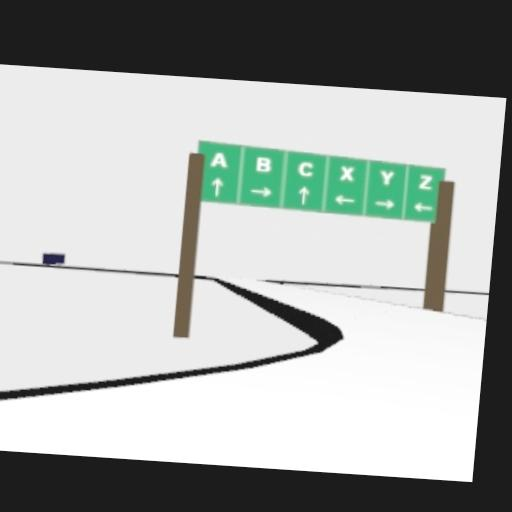A: (210, 151, 227, 167)
B: (254, 155, 272, 171)
C: (296, 160, 314, 176)
Left: (333, 194, 355, 206), (412, 203, 433, 212)
Right: (249, 185, 273, 196), (374, 198, 395, 209)
Straight: (210, 176, 223, 197), (297, 185, 308, 206)
X: (339, 165, 355, 181)
Y: (378, 169, 395, 185)
Z: (417, 173, 434, 189)
